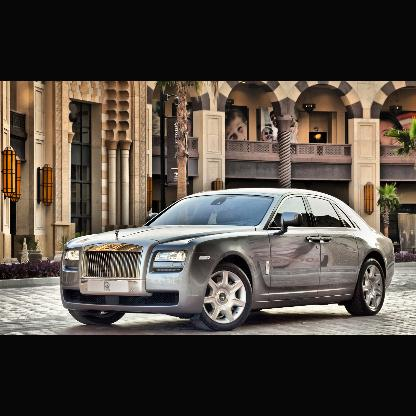Rolls-Royce Ghost Sedan 2012: (62, 188, 394, 331)
